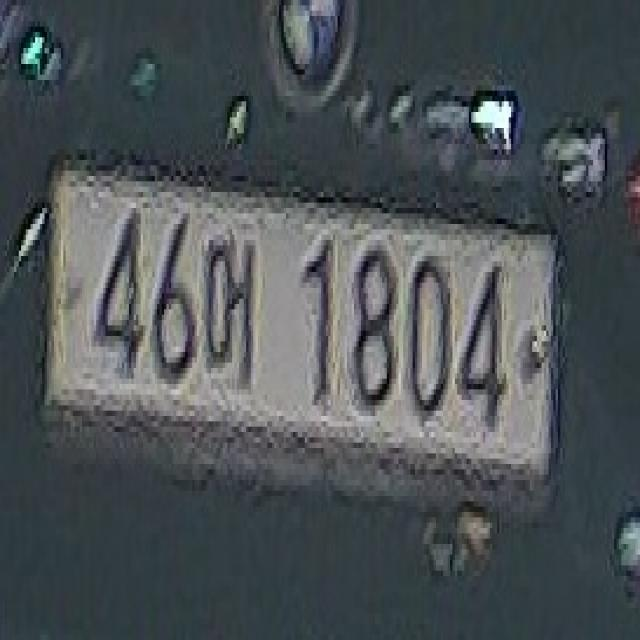0: (406, 238, 454, 448)
1: (294, 223, 340, 428)
4: (92, 195, 144, 406), (458, 244, 511, 446)
6: (152, 194, 198, 414)
8: (349, 231, 401, 428)
eo: (200, 220, 262, 406)
license_plate: (33, 134, 573, 528)
